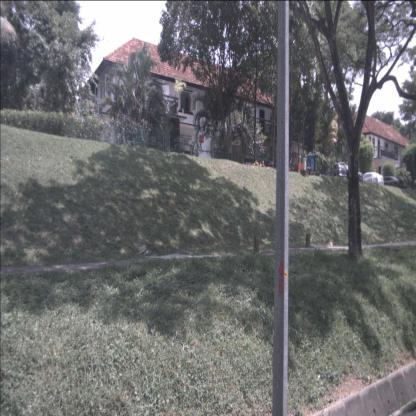vehicle-car: (330, 164, 362, 184), (321, 162, 347, 182), (357, 172, 384, 188), (374, 176, 403, 190)
